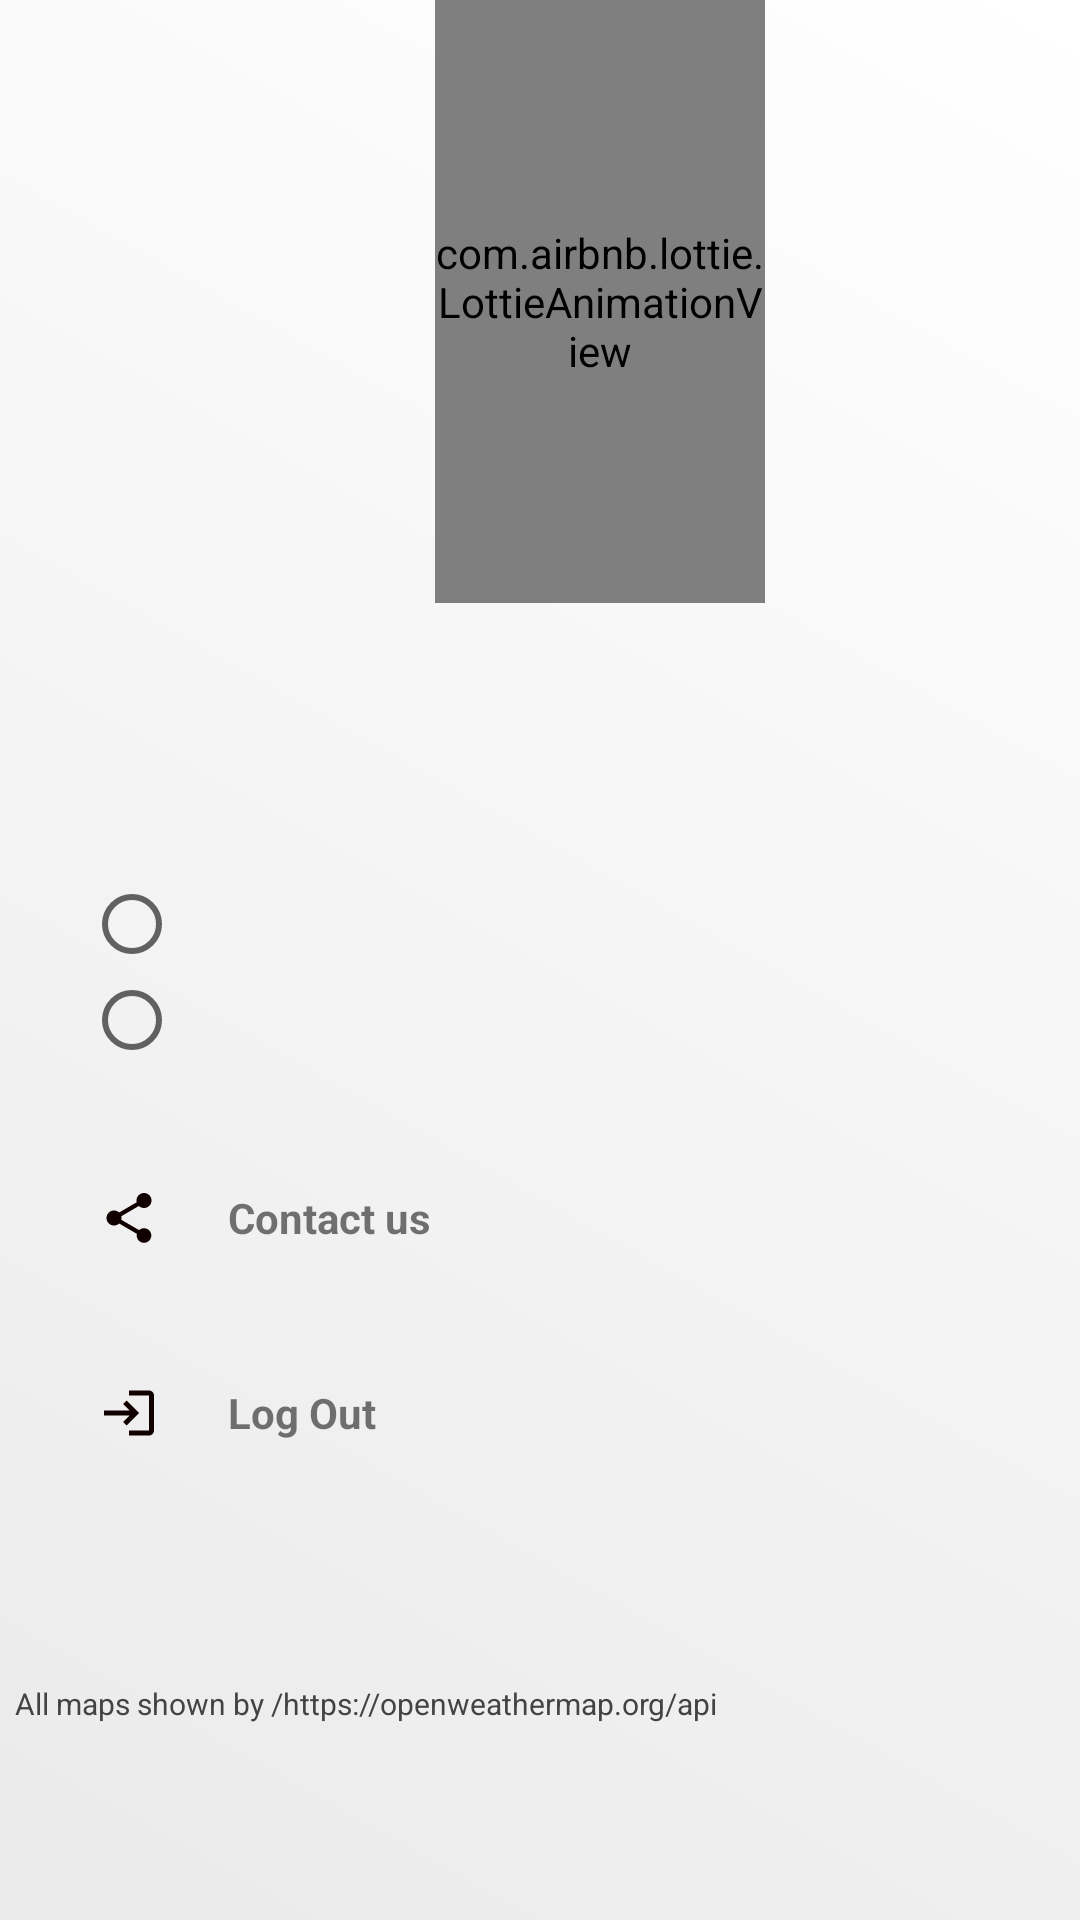

Icons on this 1080*1920 Android screen, each with its box as {"left": x1, "top": y1, "right": x2, "bottom": y2}:
share: {"left": 106, "top": 1193, "right": 152, "bottom": 1243}
